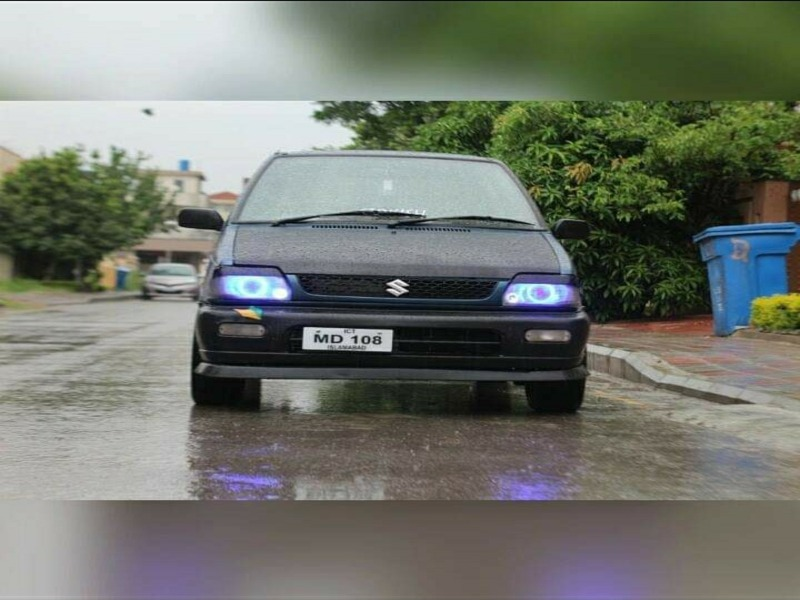License Plate: (297, 324, 396, 357)
